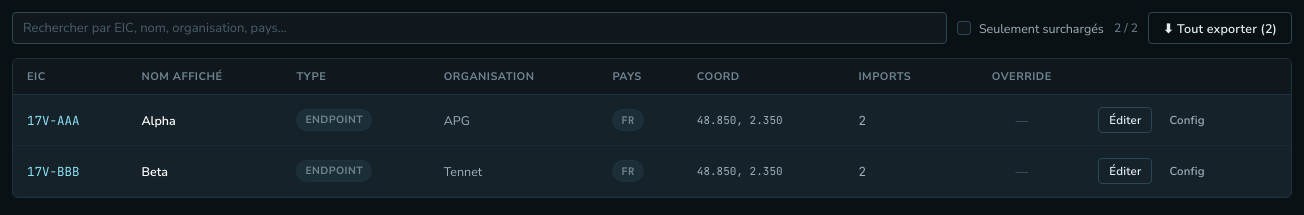
Test: ComponentsAdminTable › filters by search text (eic, displayName, organization, country)
Check: the text "Alpha" is shown, box [127, 94, 282, 146]
Type "APG" into the field with placeholder "Rechercher par EIC, nom, organisation, pays…" at {"x": 479, "y": 28}, box [12, 12, 947, 44]
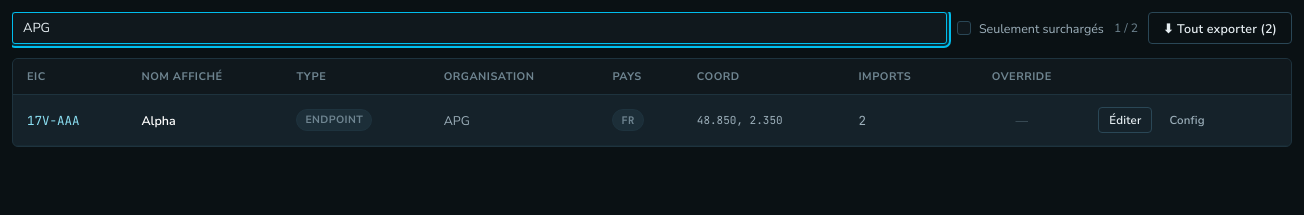
Check: the text "17V-AAA" is shown, box [13, 94, 127, 146]
Check: the text "17V-BBB" is gone
